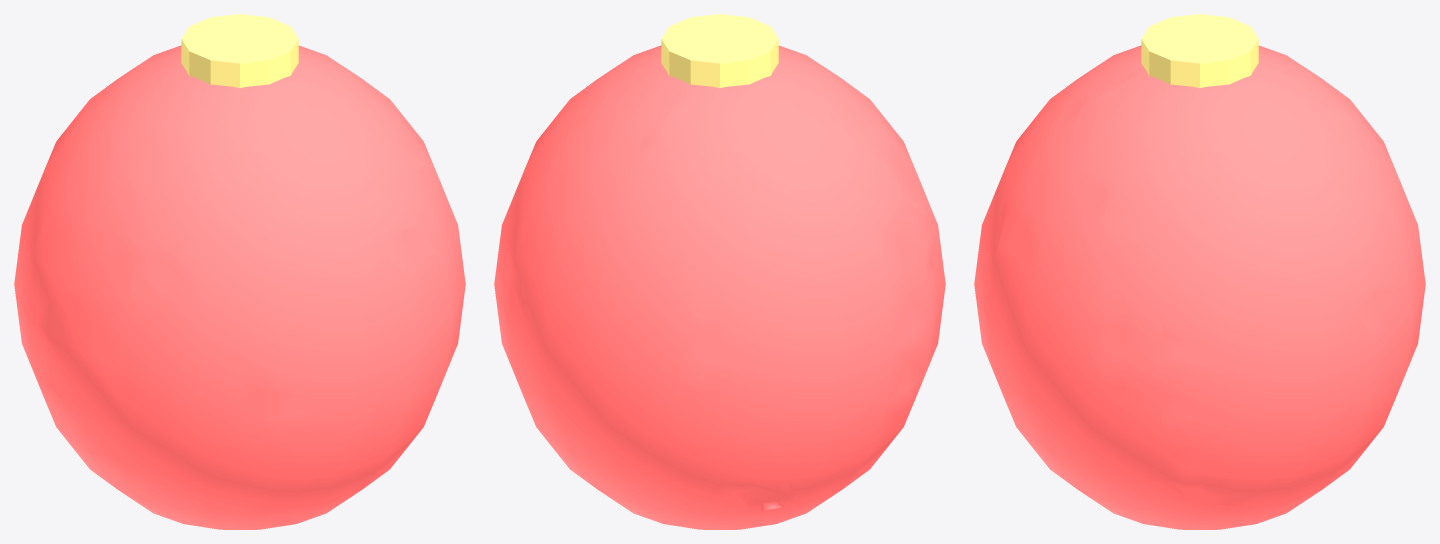
File: ornament.glb
3 renders of one model, left to right at view 1: azimuth 30°, elevation 25°; view 2: azimuth 150°, elevation 25°; view 3: azimuth 270°, elevation 25°, orthographic.
Visible parts, largest first — view 1: Ornament; view 2: Ornament; view 3: Ornament.
Part boxes in pixels (left/top/right/bottom): Ornament: left=14, top=14, right=465, bottom=529; Ornament: left=494, top=14, right=945, bottom=529; Ornament: left=974, top=14, right=1425, bottom=529.
Bounding box in the file's own units: 1.97 × 2.32 × 2.
